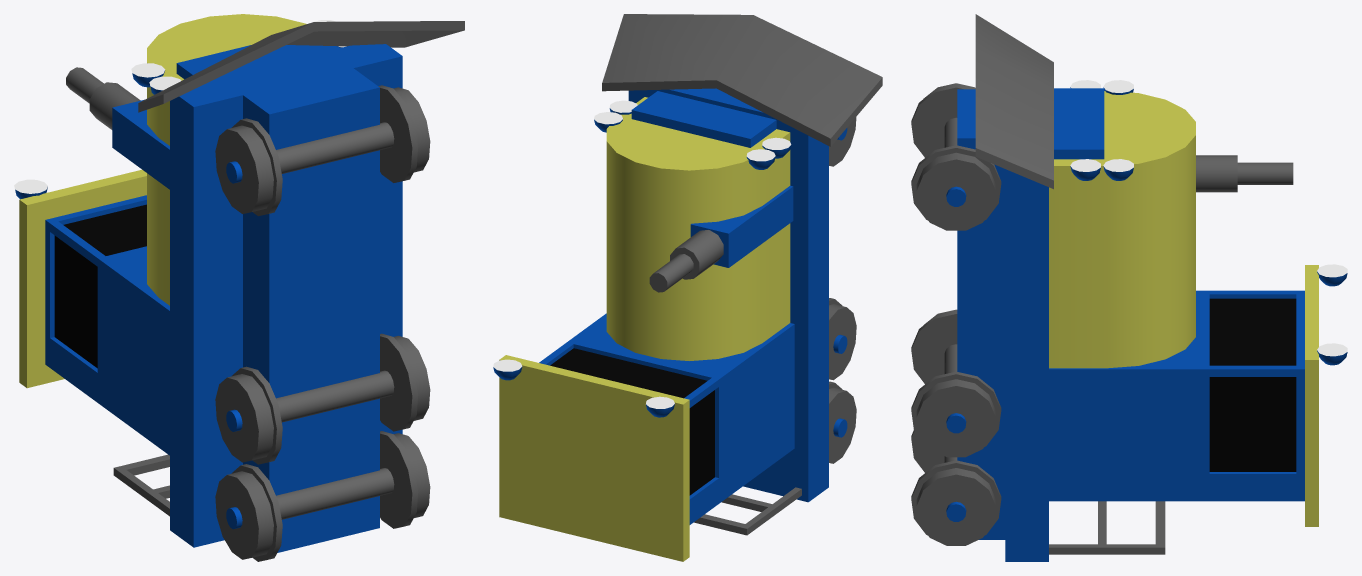
Rendered from train1.fbx.
3 views of the same model, side by side, from view 1: azimuth 30°, elevation 25°; view 2: azimuth 150°, elevation 25°; view 3: azimuth 270°, elevation 25° (orthographic). The views are drawn at different scales.
Visible parts, largest first — view 1: Box001.001; view 2: Box001.001; view 3: Box001.001.
Boxes of the visible parts, x1=… form: Box001.001: x1=14, y1=14, x2=464, y2=561; Box001.001: x1=493, y1=14, x2=882, y2=561; Box001.001: x1=911, y1=14, x2=1347, y2=561.
Size of the model in its own units: 4514 by 7336 by 6215.
